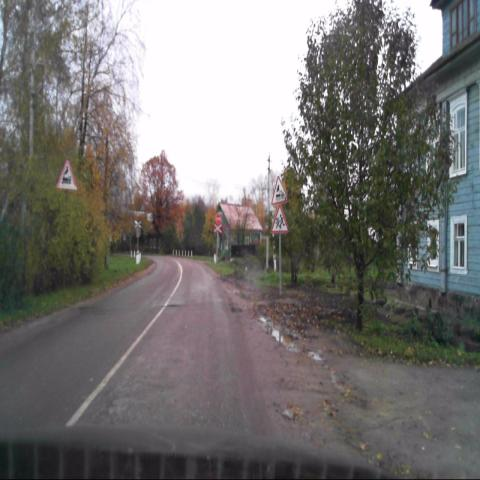1_2: (272, 176, 288, 204)
